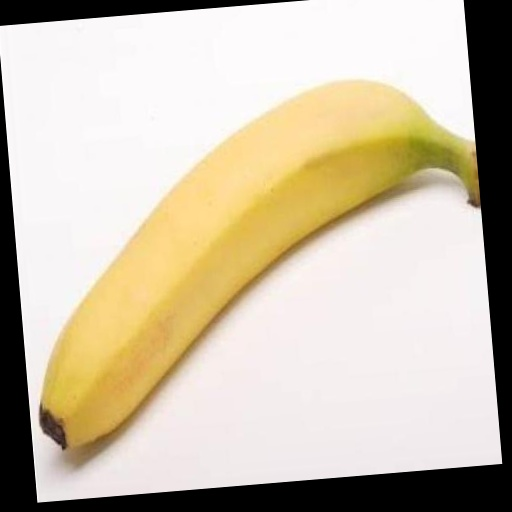fruit: (40, 82, 480, 447)
